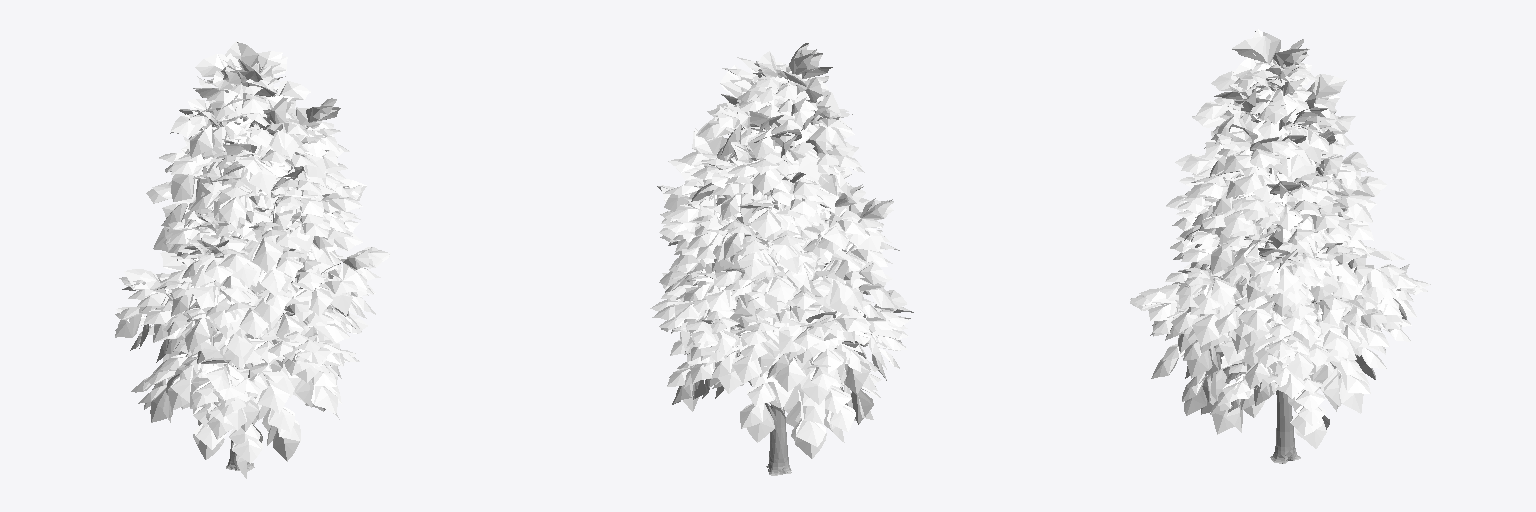
The model's file is Tree2.obj.
The picture shows the model from 3 angles: view 1: azimuth 30°, elevation 25°; view 2: azimuth 150°, elevation 25°; view 3: azimuth 270°, elevation 25°; orthographic projection.
Visible parts, largest first — view 1: g2 Mesh; view 2: g2 Mesh, g1 Mesh; view 3: g2 Mesh, g1 Mesh.
Part boxes in pixels (x1,y1,x2,y2): g2 Mesh: (115,41,390,478); g2 Mesh: (650,43,913,458); g1 Mesh: (714,71,871,475); g2 Mesh: (1130,29,1430,448); g1 Mesh: (1178,87,1316,463).
Size of the model in its own units: 4.24 by 7.59 by 4.99.